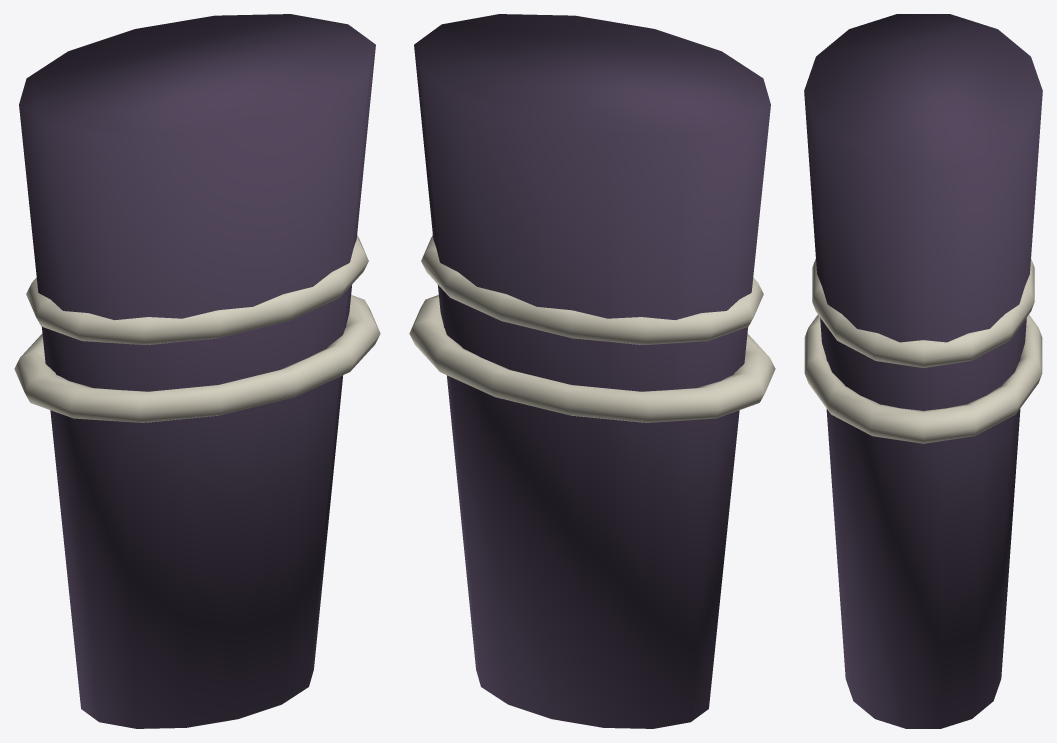
Rendered from torso_slim.glb.
3 views of the same model, side by side, from view 1: azimuth 30°, elevation 25°; view 2: azimuth 150°, elevation 25°; view 3: azimuth 270°, elevation 25° (orthographic). The views are drawn at different scales.
Parts seen in each view (by area): view 1: SlimTorso, Rib_0, Rib_1; view 2: SlimTorso, Rib_0, Rib_1; view 3: SlimTorso, Rib_0, Rib_1.
Part boxes in pixels (x1=…): SlimTorso: x1=19, y1=14, x2=375, y2=728; Rib_0: x1=14, y1=295, x2=380, y2=422; Rib_1: x1=26, y1=235, x2=368, y2=345; SlimTorso: x1=414, y1=14, x2=770, y2=728; Rib_0: x1=409, y1=295, x2=775, y2=422; Rib_1: x1=421, y1=235, x2=763, y2=345; SlimTorso: x1=804, y1=14, x2=1042, y2=728; Rib_0: x1=804, y1=315, x2=1042, y2=443; Rib_1: x1=812, y1=258, x2=1034, y2=367.
Bounding box in the file's own units: 0.5875 × 1 × 0.368.
